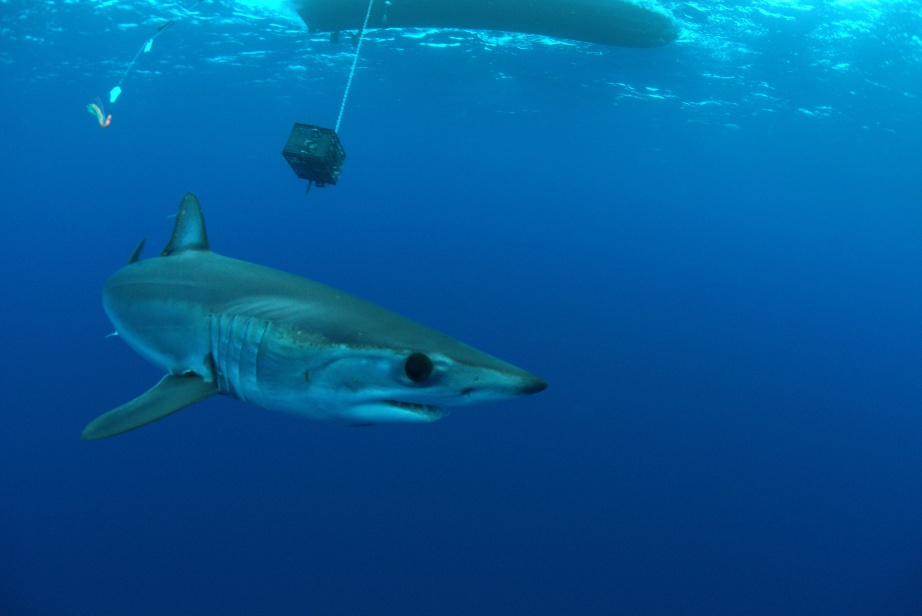Mako: (60, 186, 557, 459)
